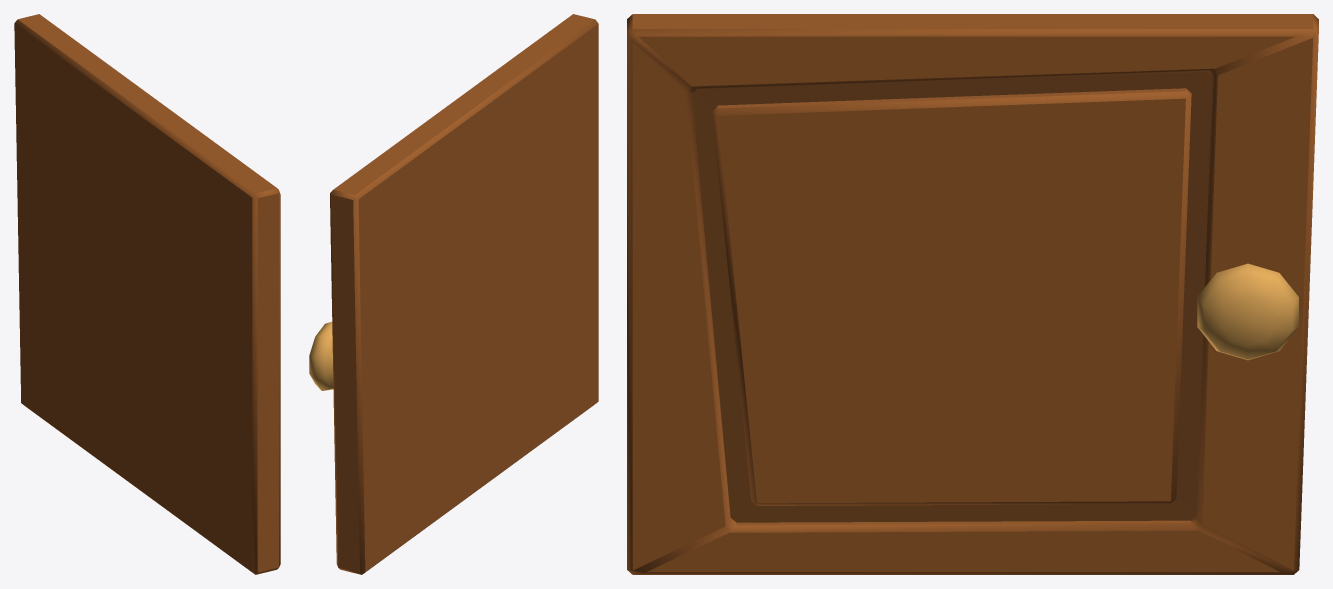
File: Computer_table2.fbx
3 renders of one model, left to right at view 1: azimuth 30°, elevation 25°; view 2: azimuth 150°, elevation 25°; view 3: azimuth 270°, elevation 25°, orthographic. The views are drawn at different scales.
Visible parts, largest first — view 1: Computer_table2; view 2: Computer_table2; view 3: Computer_table2.
Boxes of the visible parts, box(x1,y1,x2,y2) form: Computer_table2: box(14, 14, 280, 574); Computer_table2: box(309, 14, 598, 574); Computer_table2: box(627, 14, 1318, 574).
Bounding box in the file's own units: 0.0804 × 0.4573 × 0.5252.
